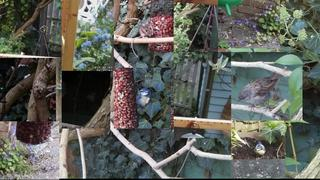blue tit: (134, 88, 151, 113), (254, 141, 266, 159)
dunnock: (236, 72, 282, 113)
mouse: (131, 20, 154, 59)
